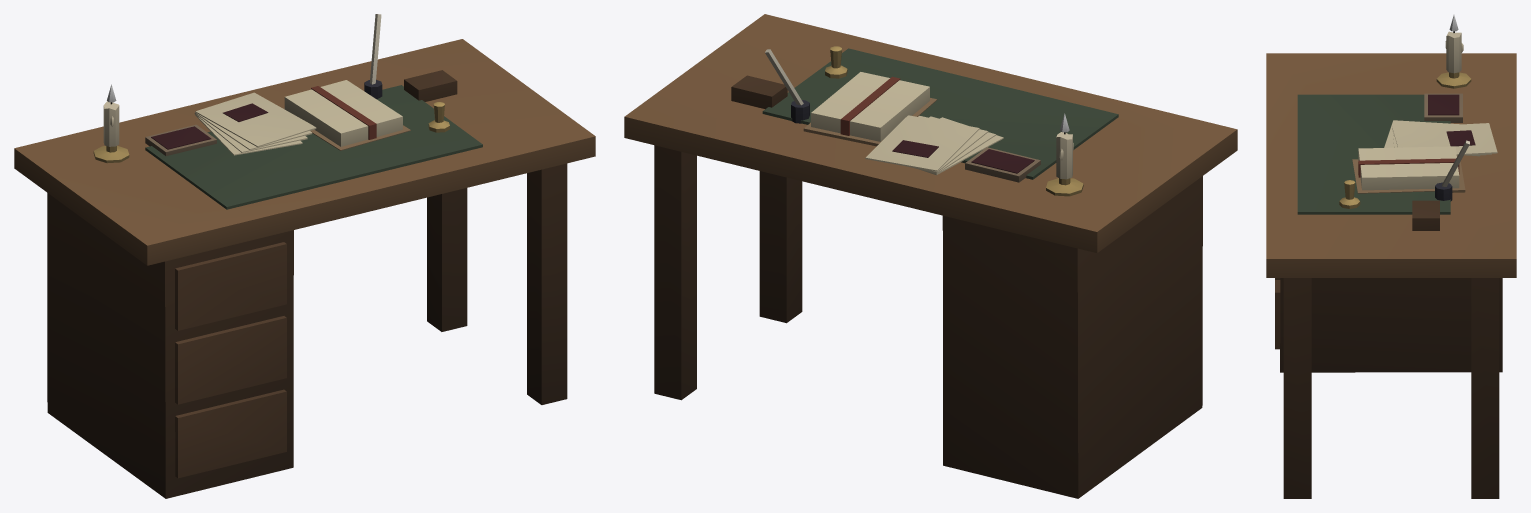
Rendered from ph_int_office_desk.glb.
3 views of the same model, side by side, from view 1: azimuth 30°, elevation 25°; view 2: azimuth 150°, elevation 25°; view 3: azimuth 270°, elevation 25° (orthographic). The views are drawn at different scales.
Parts seen in each view (by area): view 1: ph_int_office_desk; view 2: ph_int_office_desk; view 3: ph_int_office_desk.
Part boxes in pixels (x1,y1,x2,y2): ph_int_office_desk: [14, 14, 595, 498]; ph_int_office_desk: [624, 14, 1237, 498]; ph_int_office_desk: [1266, 14, 1516, 498].
Bounding box in the file's own units: 1.4 × 1.01 × 0.72.
